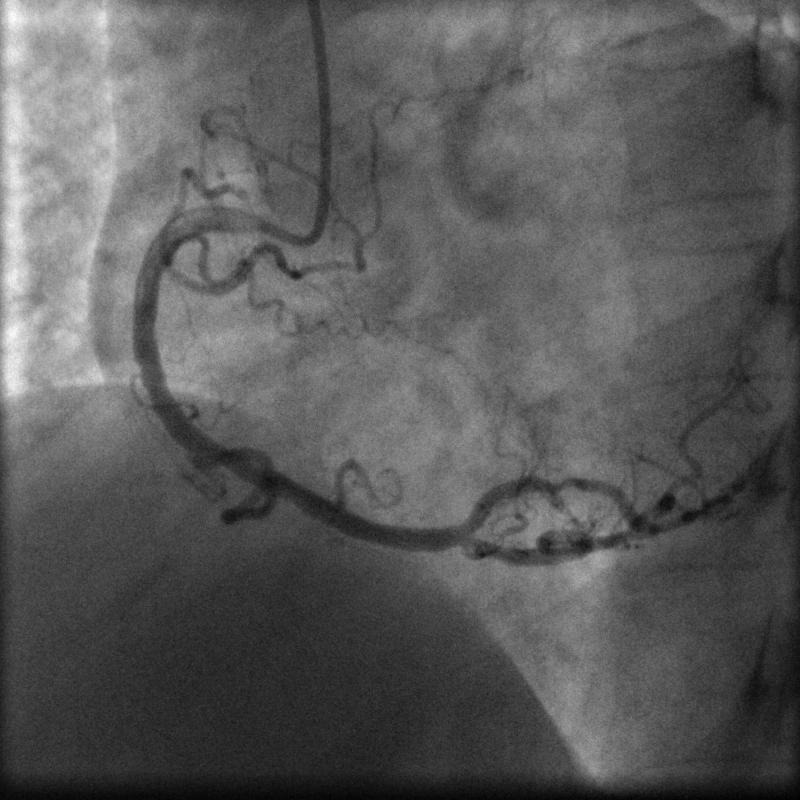Stenosis: (530, 467, 578, 497)
